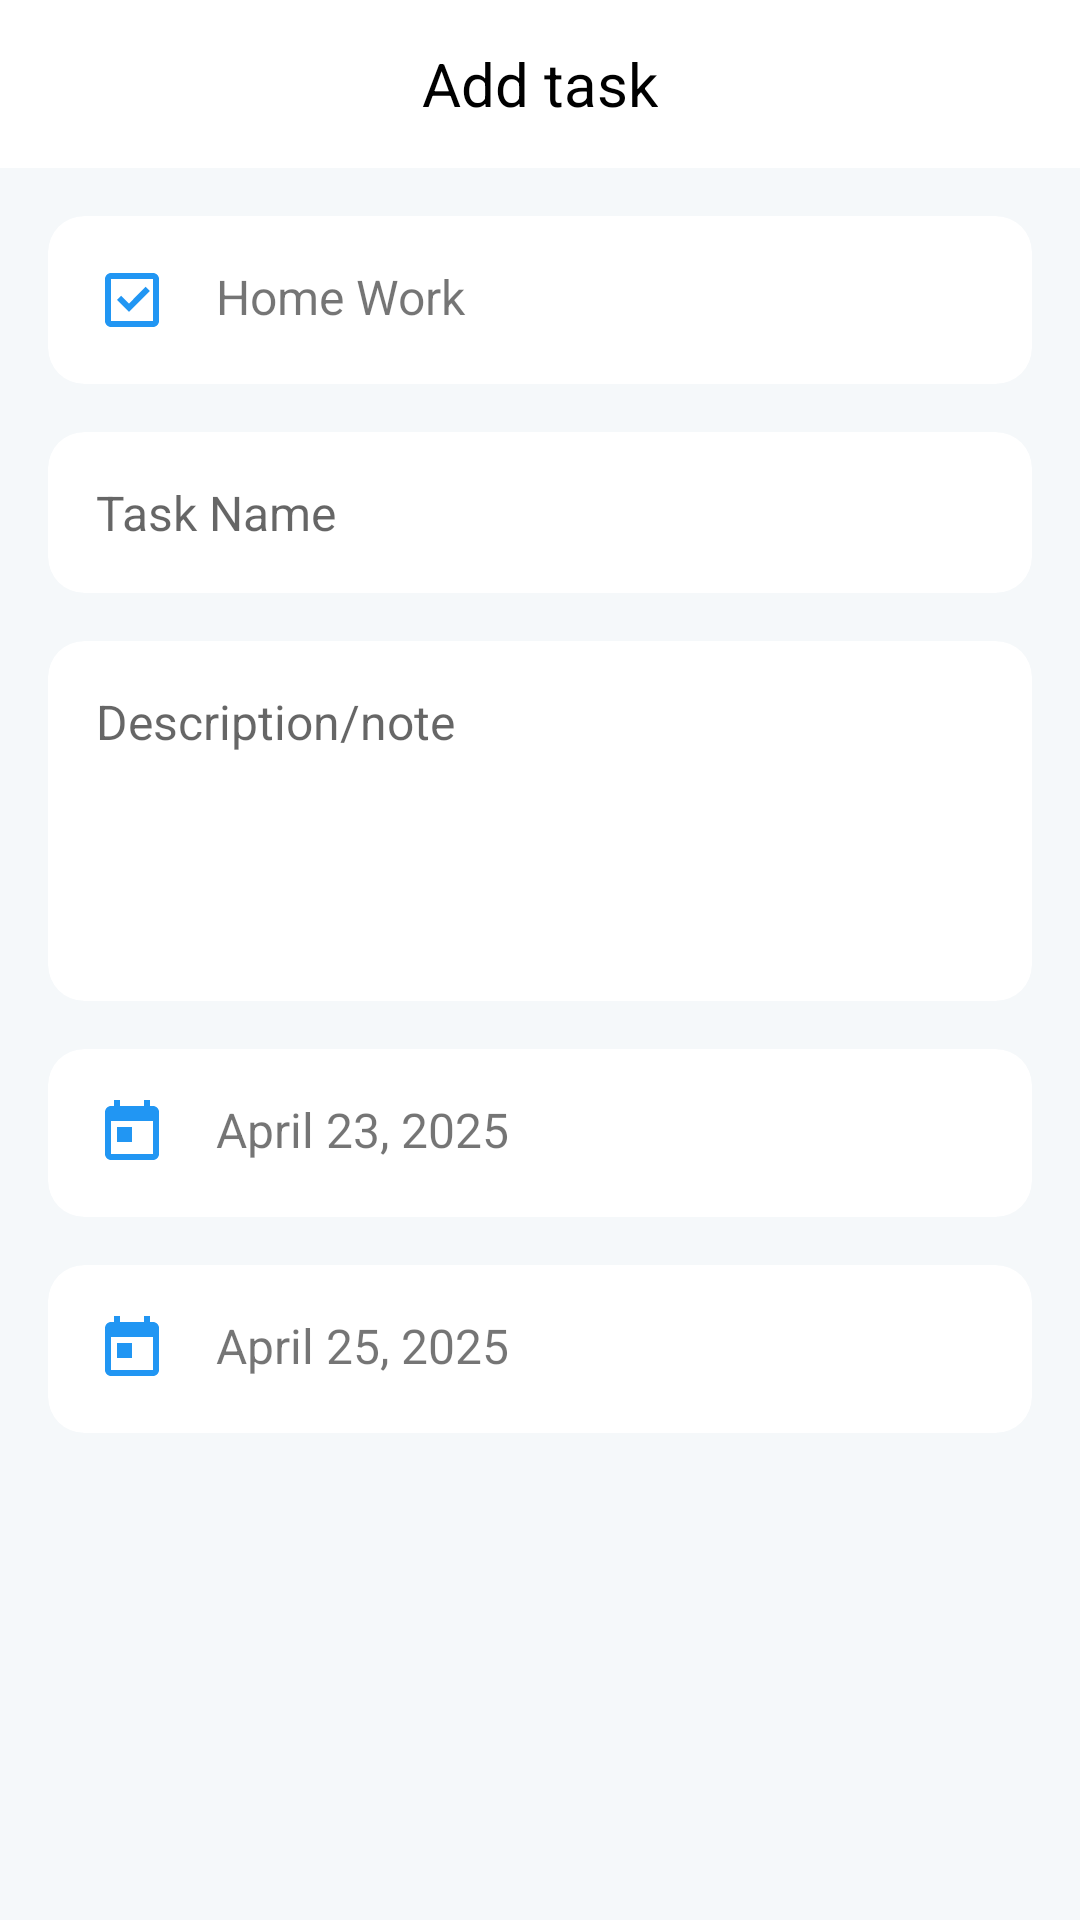

Where to tap for icons on this 1080*1920 app screen, as (x,y):
End date: (132,1346)
Start date: (132,1130)
Task type: (132,300)
